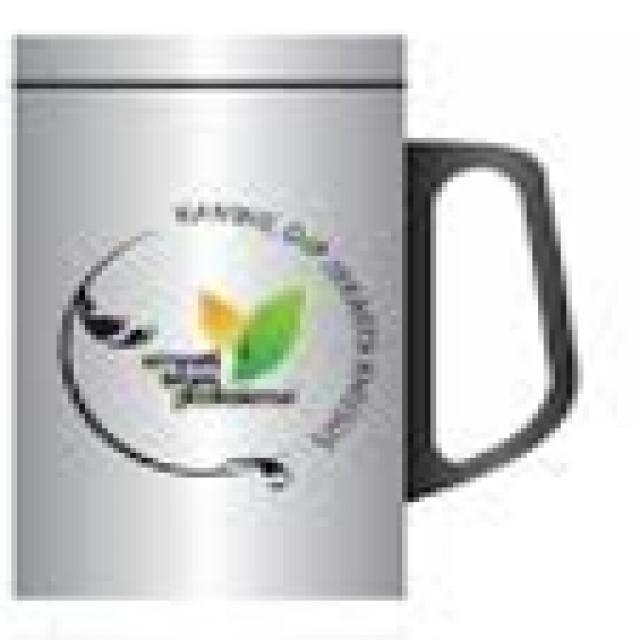taza: (9, 32, 628, 606)
